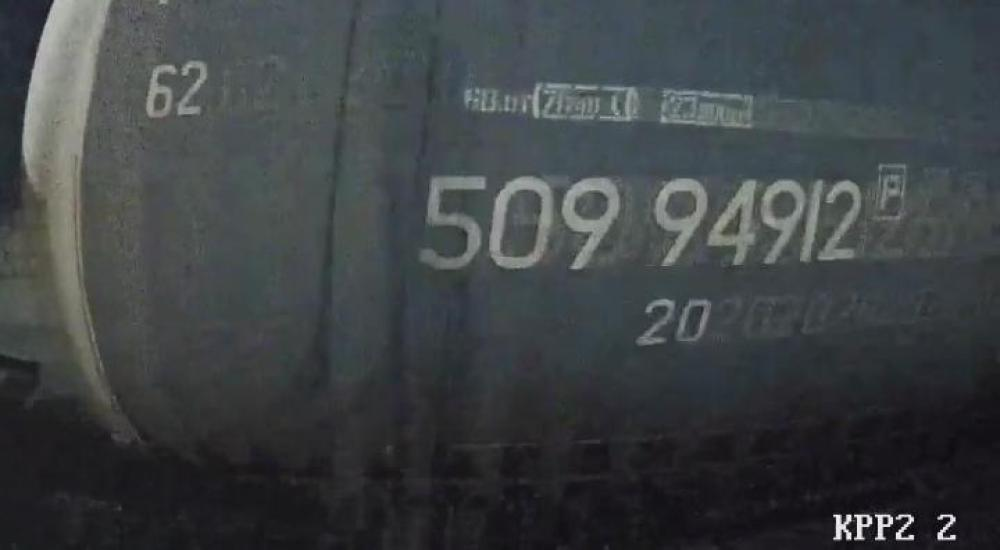Wagon-number: (410, 166, 866, 276)
